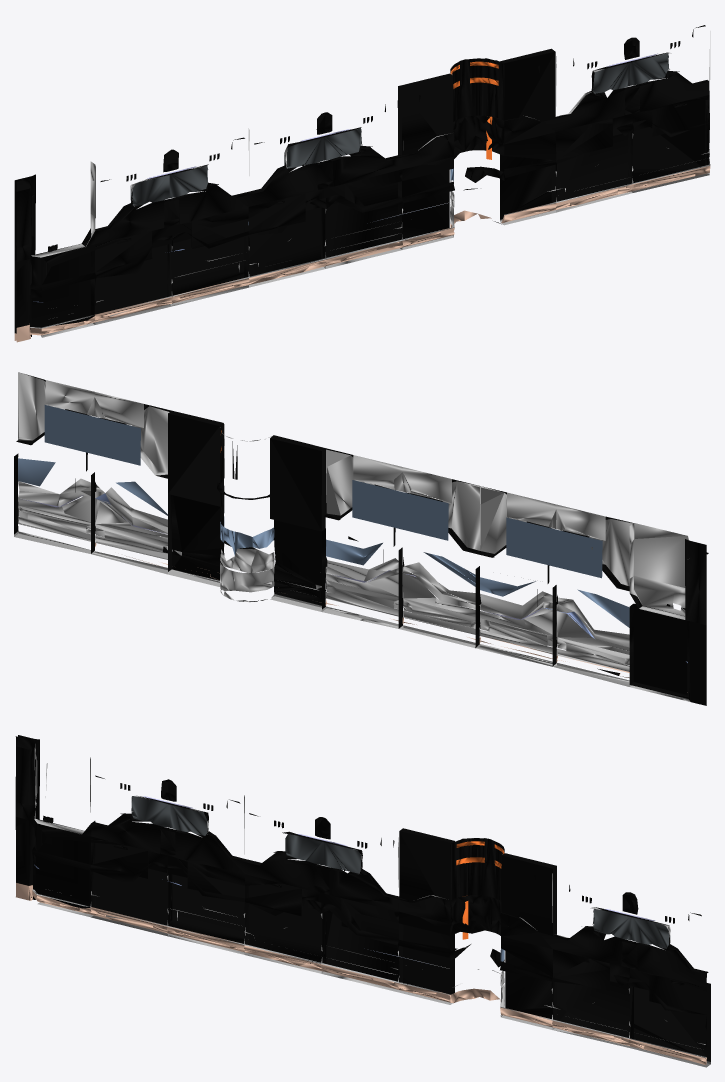
Rendered from hangar_business_v2_Wall_Xlarge_L_Bottom_01L.glb.
3 views of the same model, one above another, from view 1: azimuth 30°, elevation 25°; view 2: azimuth 150°, elevation 25°; view 3: azimuth 330°, elevation 25° (orthographic).
Bounding box in the file's own units: 72.07 × 16.08 × 3.22.
